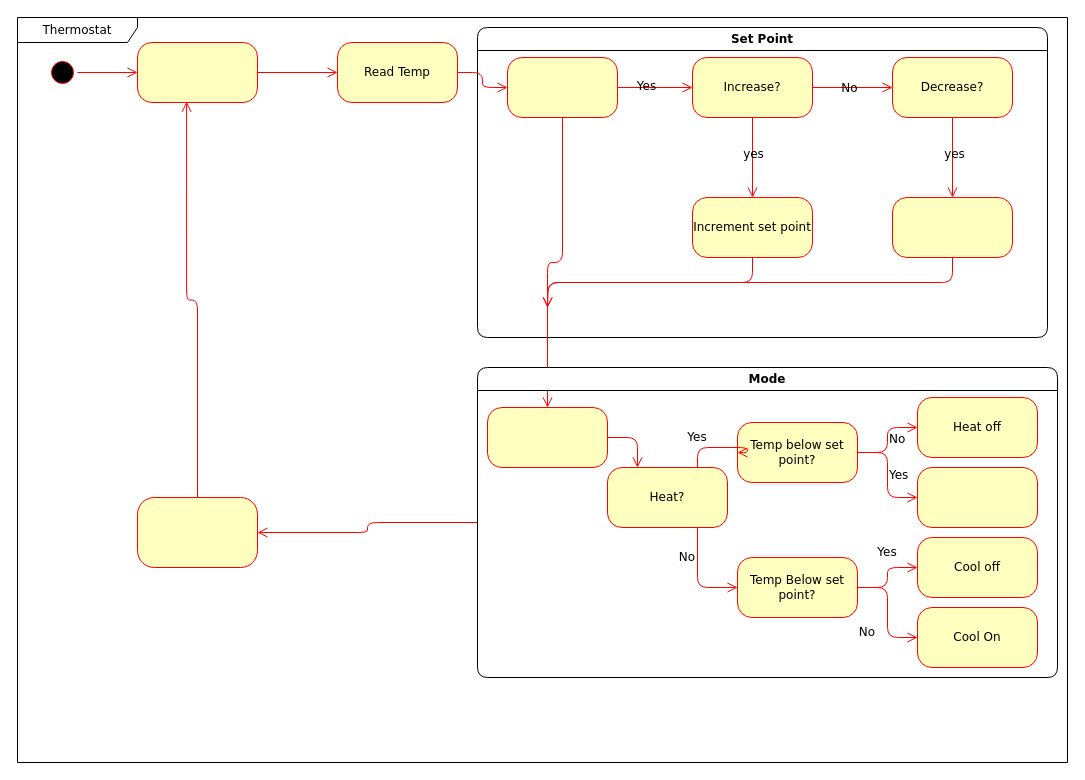
The diagram is 1085 pixels wide and 780 high, and some of its shapes have lost their labels. The shapes that lost their labels are listed below. From the top down, each one's centre as x and y in pixels, then its label:
At point 197,72: "While Loop".
At point 562,87: "Button Pressed?".
At point 952,227: "Decrement set point".
At point 547,437: "Mode check".
At point 977,497: "Heat on".
At point 197,532: "Display info".
